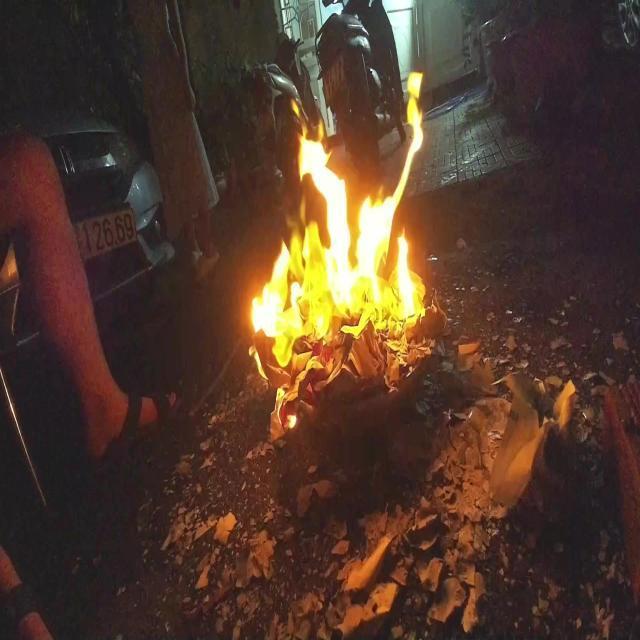Fire: (249, 83, 441, 428)
